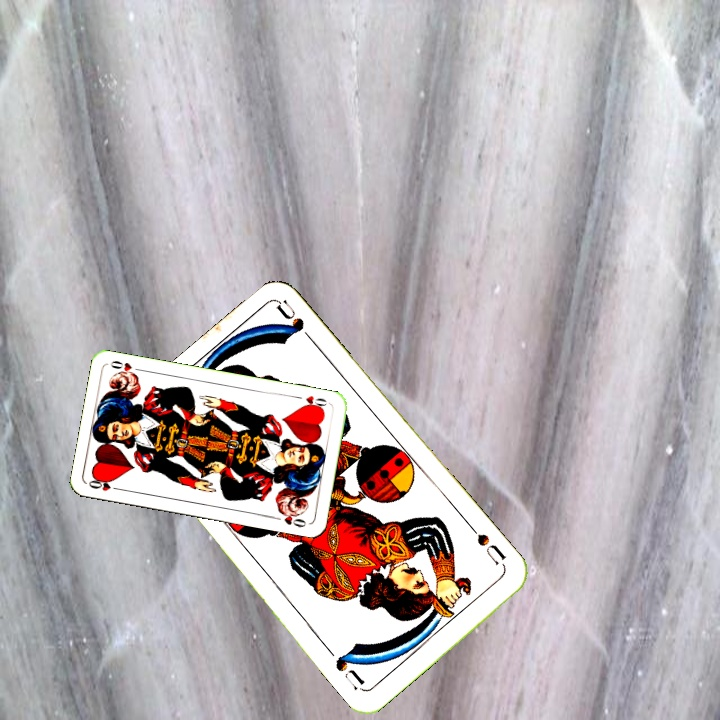HO: (84, 474, 125, 494), (291, 392, 329, 412)
SU: (465, 521, 509, 568)
